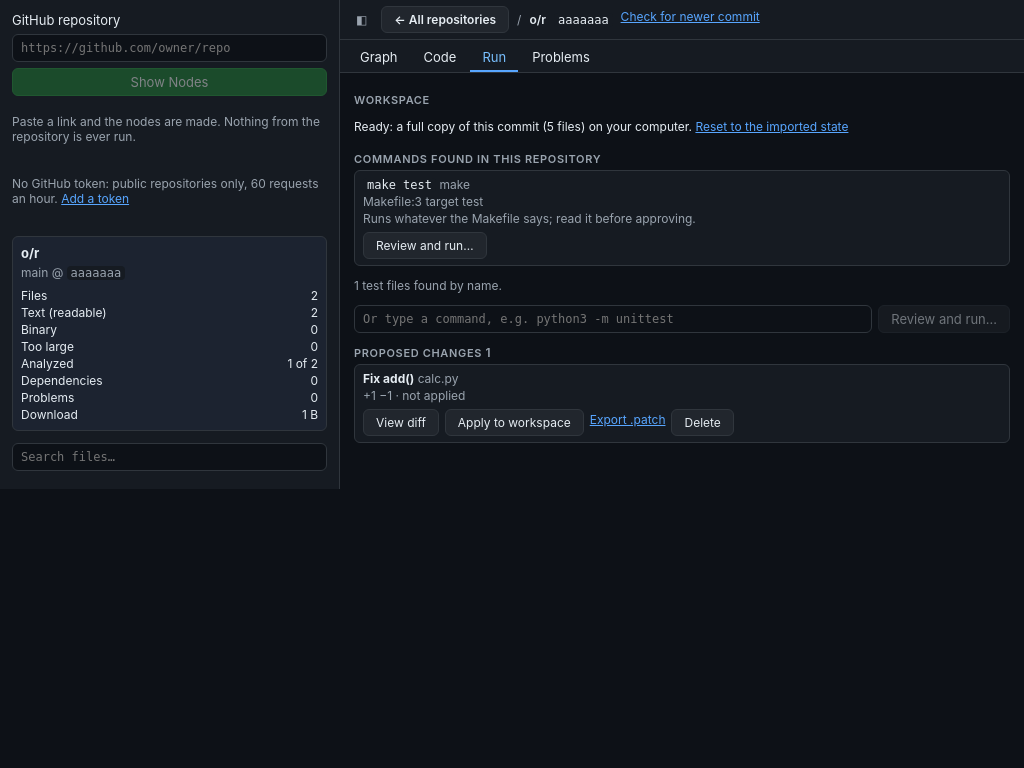
Test: proposed changes › view diff shows the real unified diff
Click the button "View diff" at (401, 422), box [363,409,439,436]
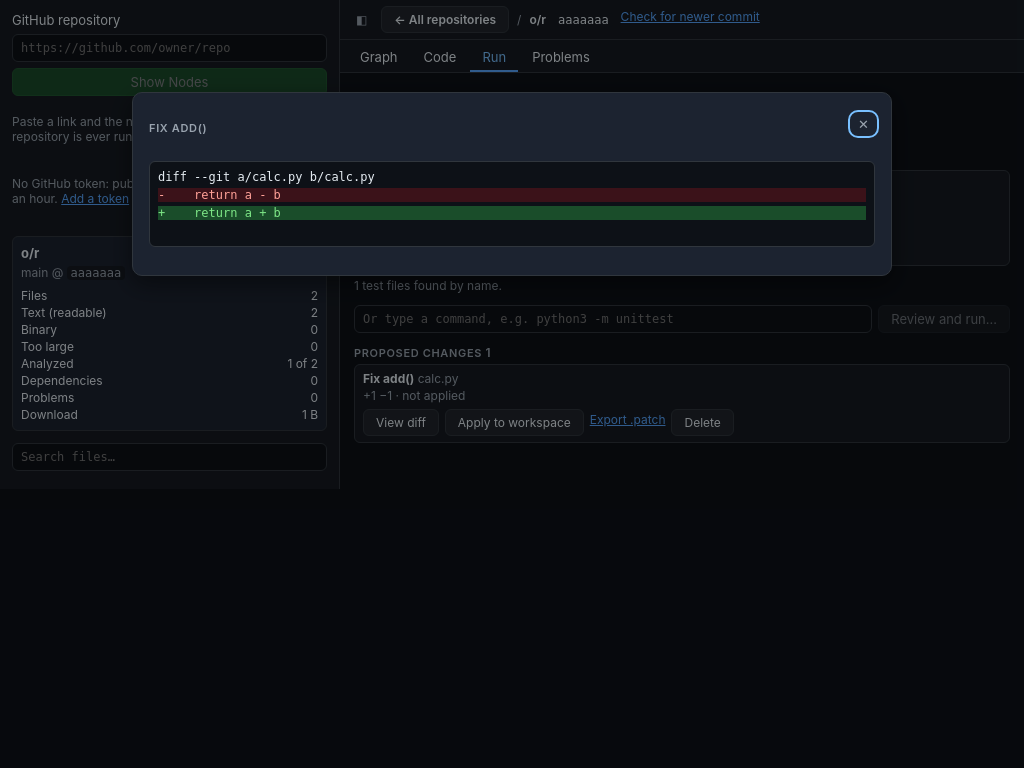
Check: the text "+ return a + b" is shown, box [158,206,866,220]
